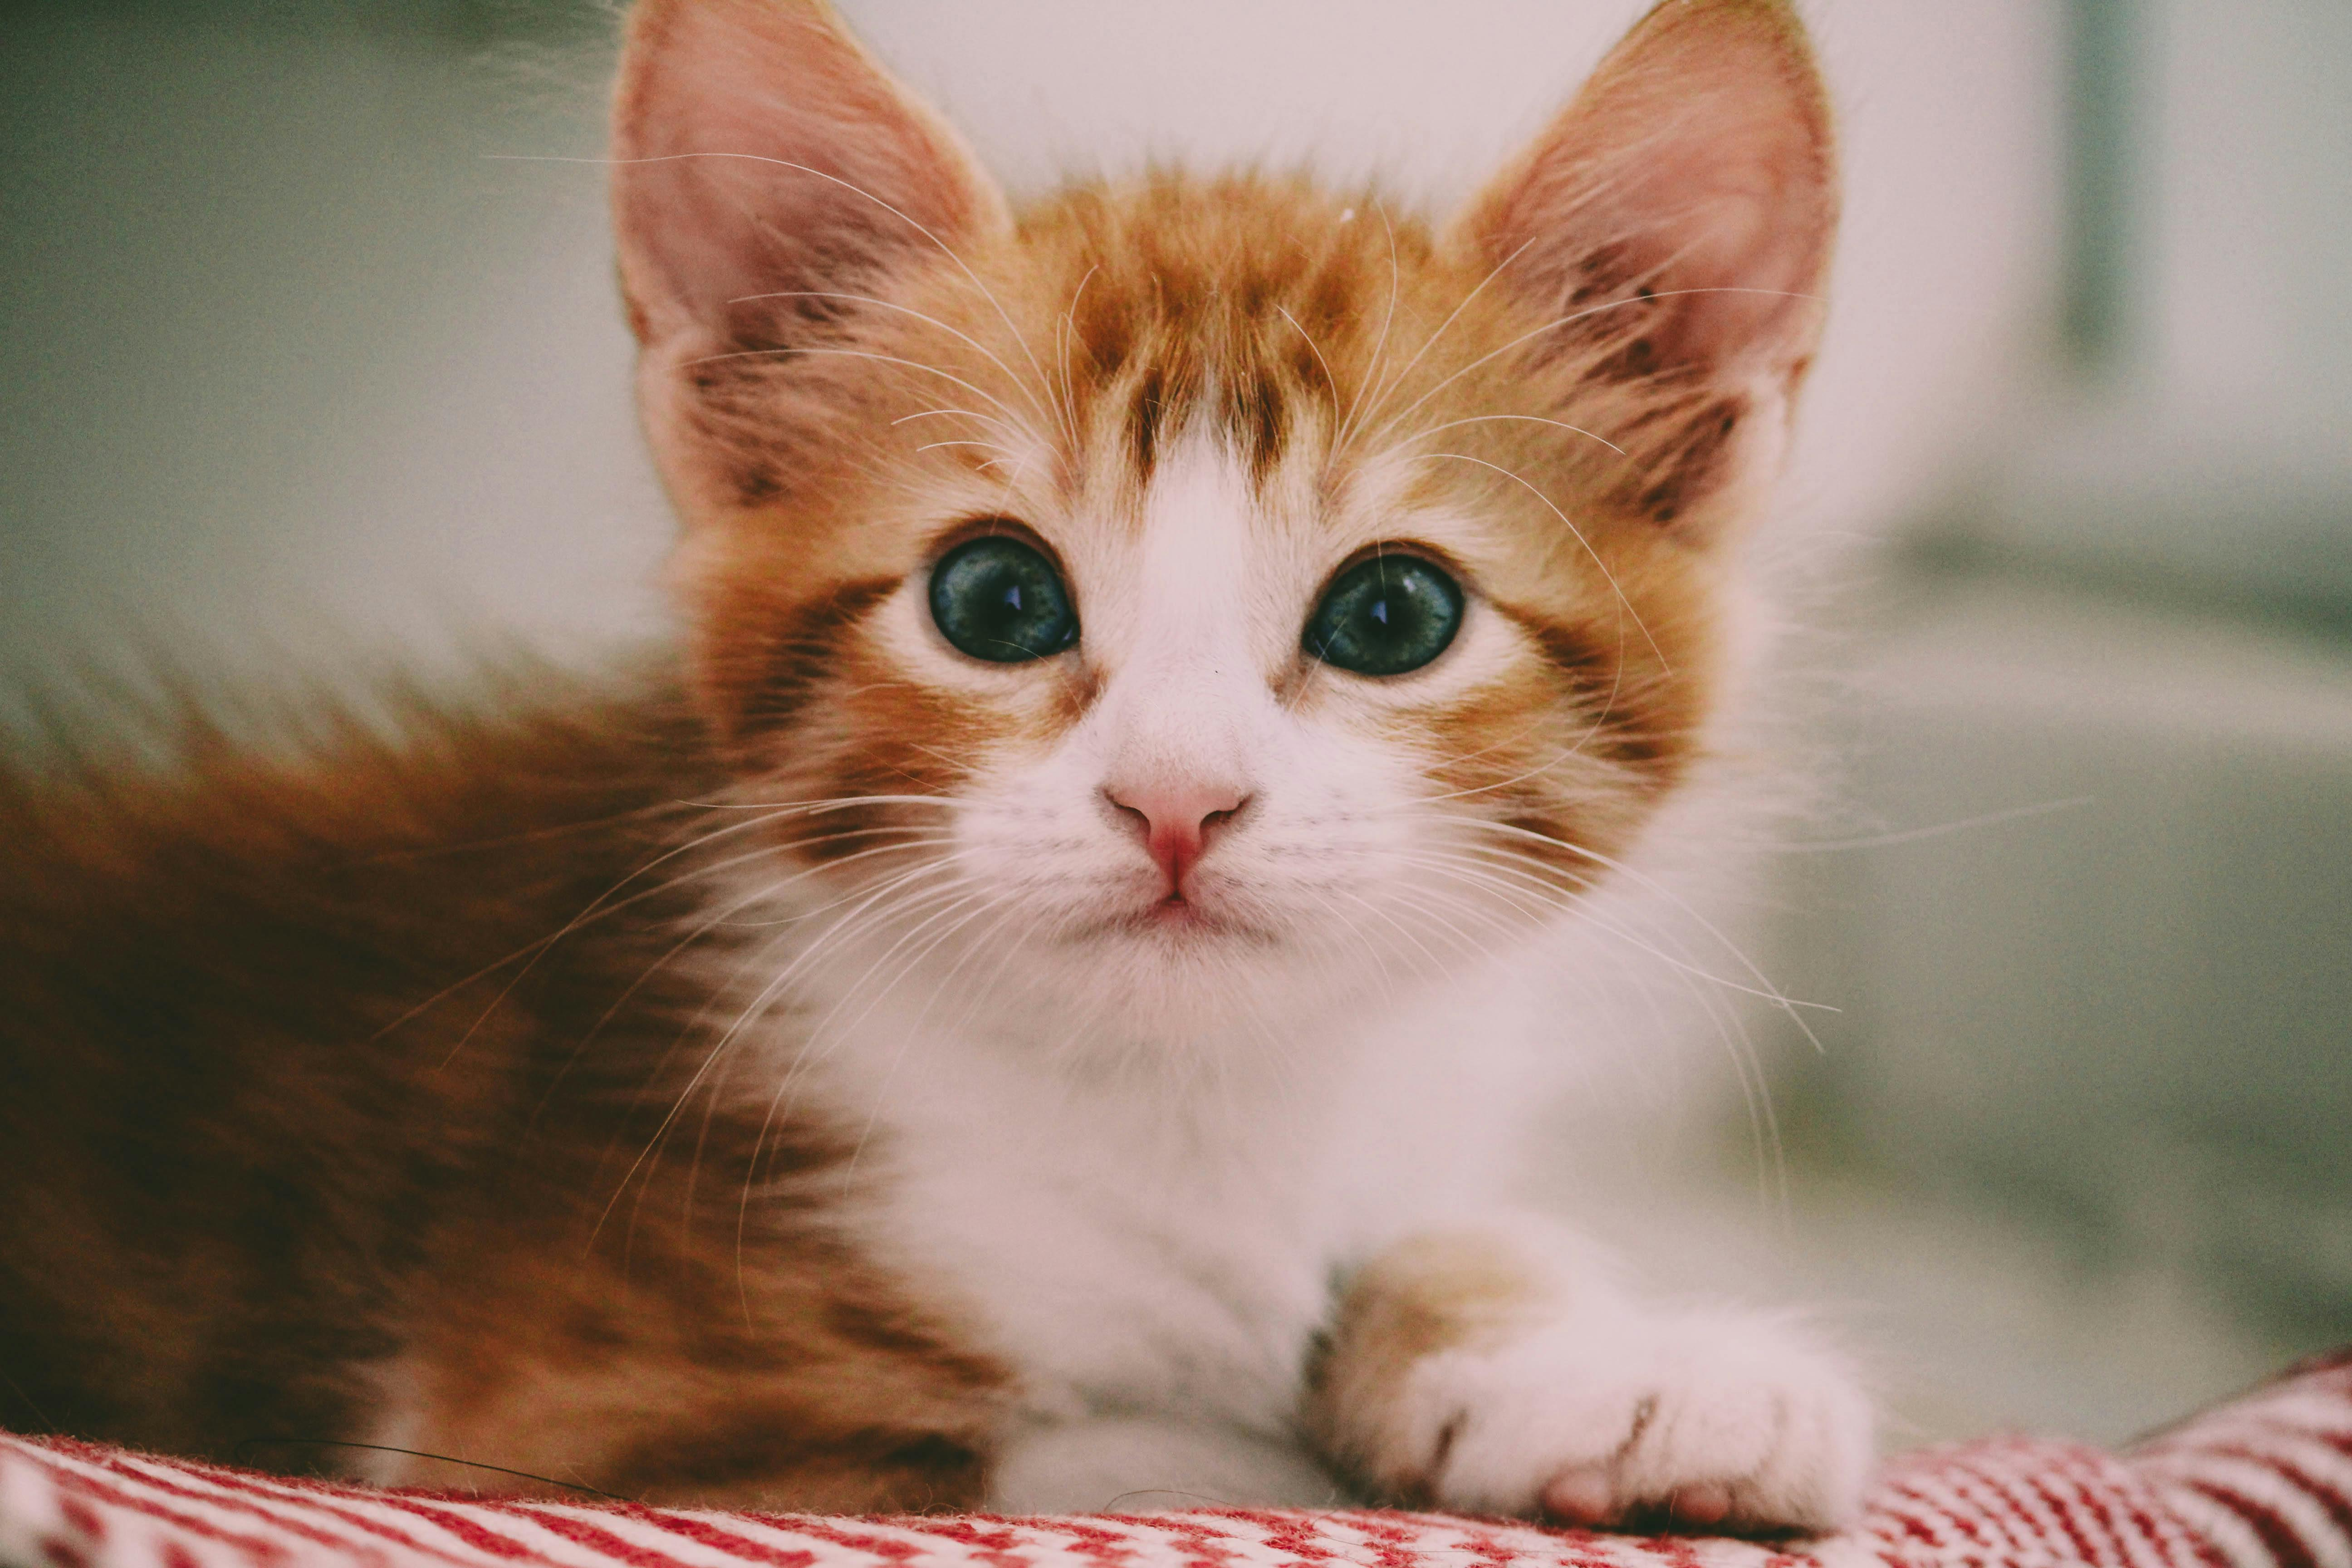kedo: (5, 0, 1860, 1524)
